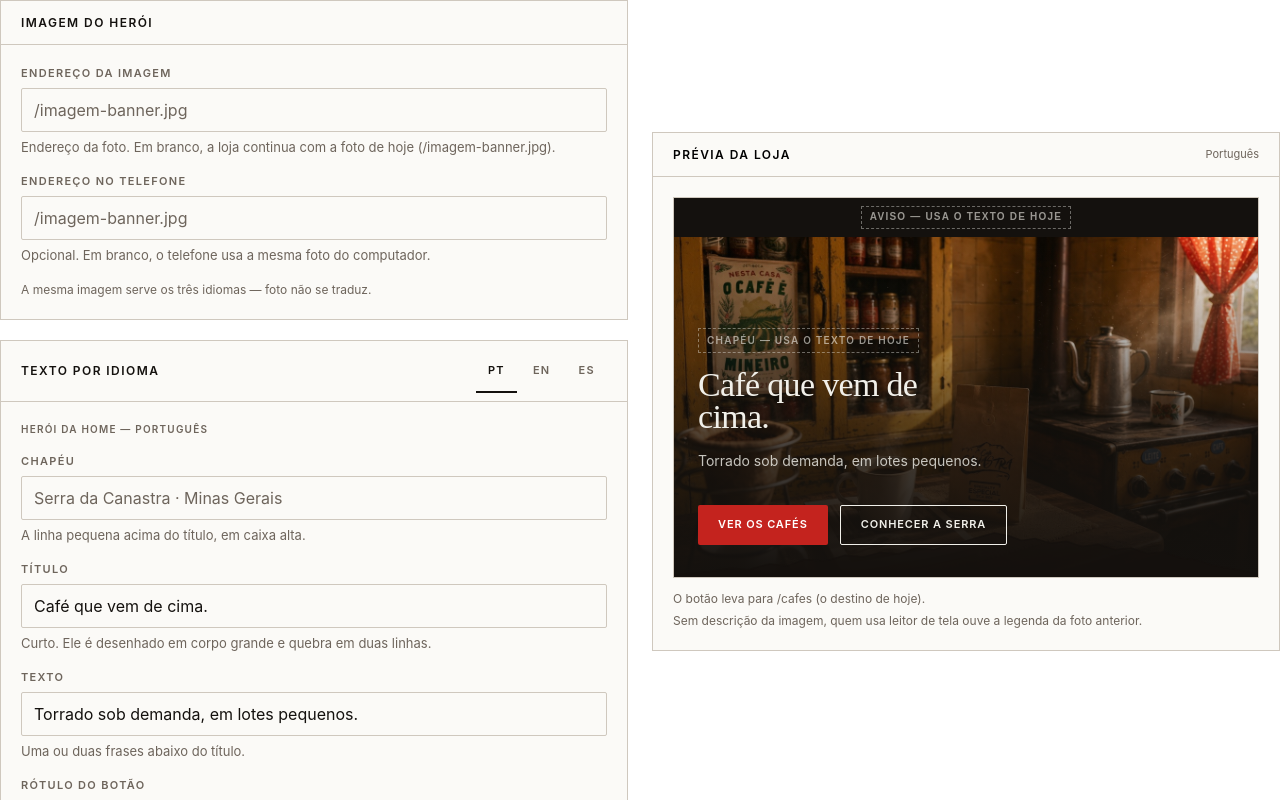
Scenario: a barra de salvar — R5 › descartar pede confirmação antes de devolver o valor original
The image size is (1280, 800).
Type "Outra coisa" into the field labelled "Título" at (314, 606), box [21,584,607,628]
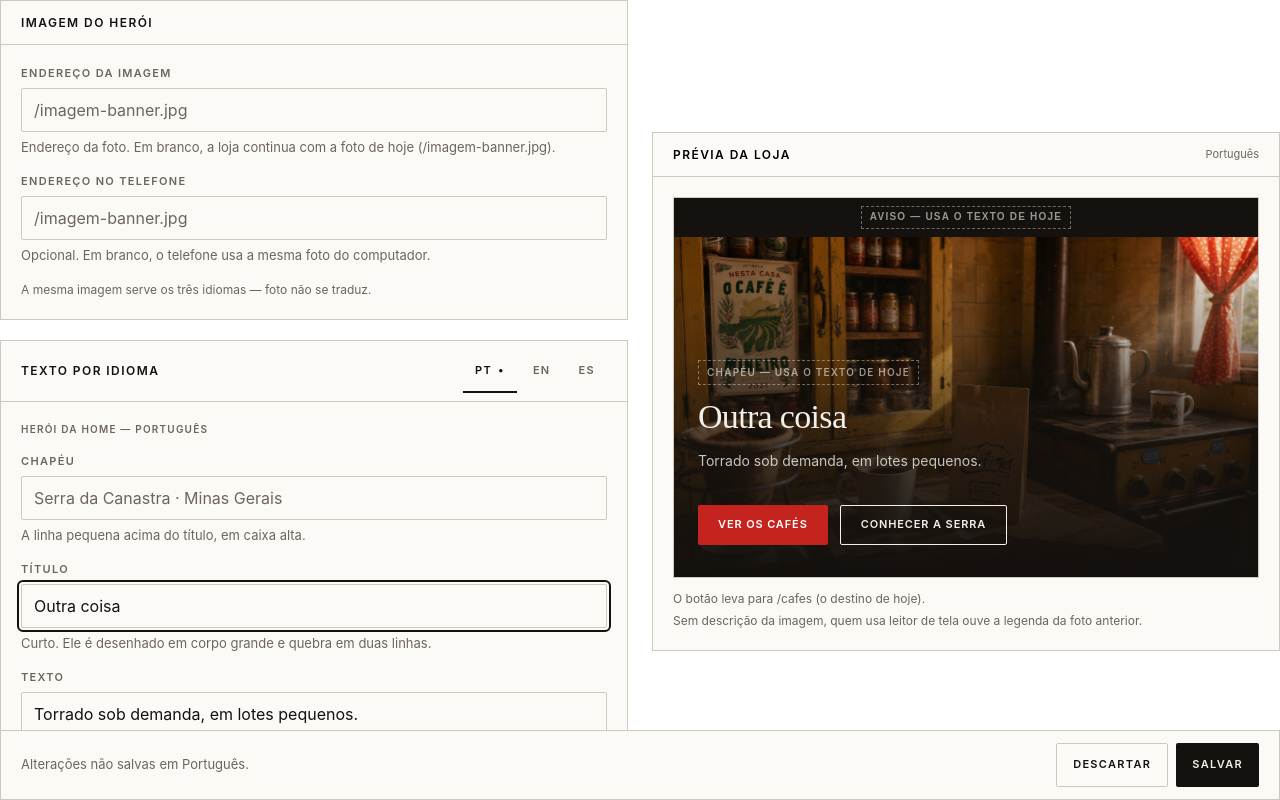
Click the button "Descartar" at (1112, 765), box [1056,743,1168,787]
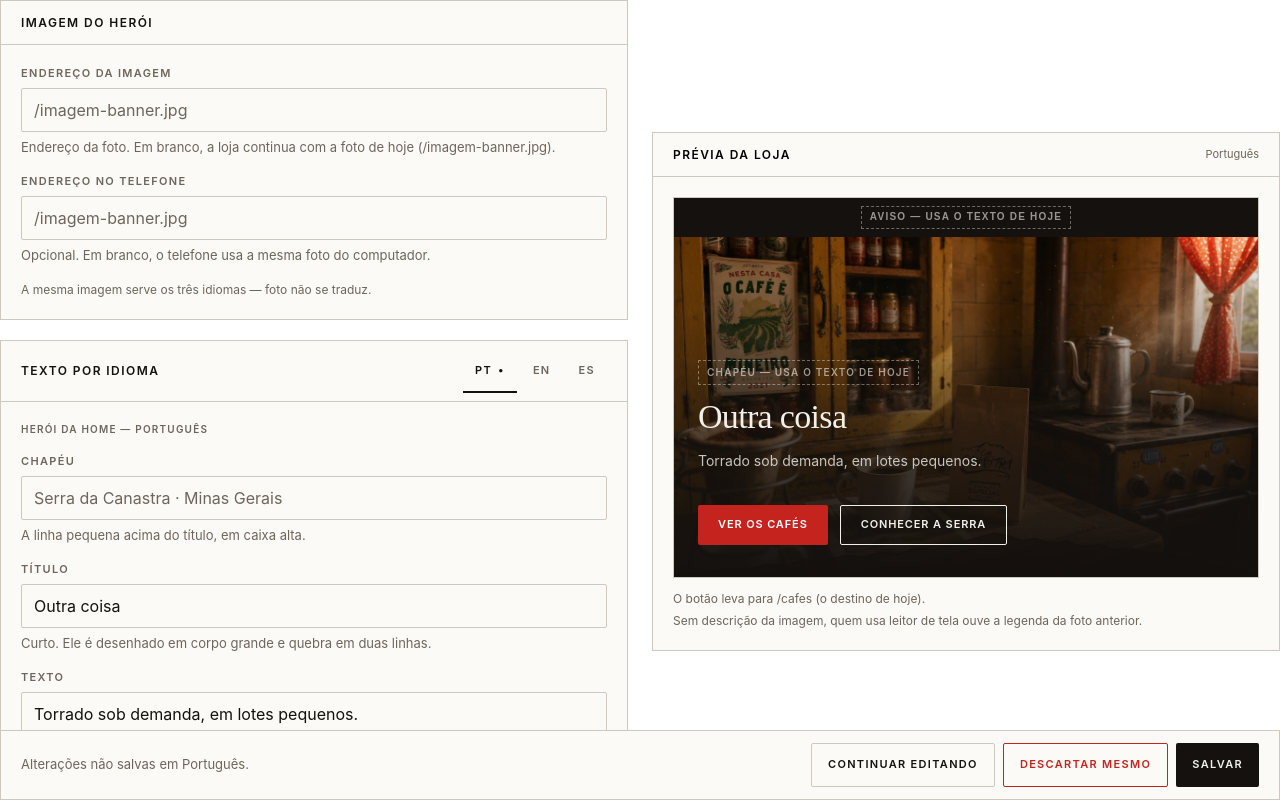
Result: the heading "Outra coisa" is shown at [698,398,846,436]
Click the button "Descartar mesmo" at (1086, 765), box [1003,743,1168,787]
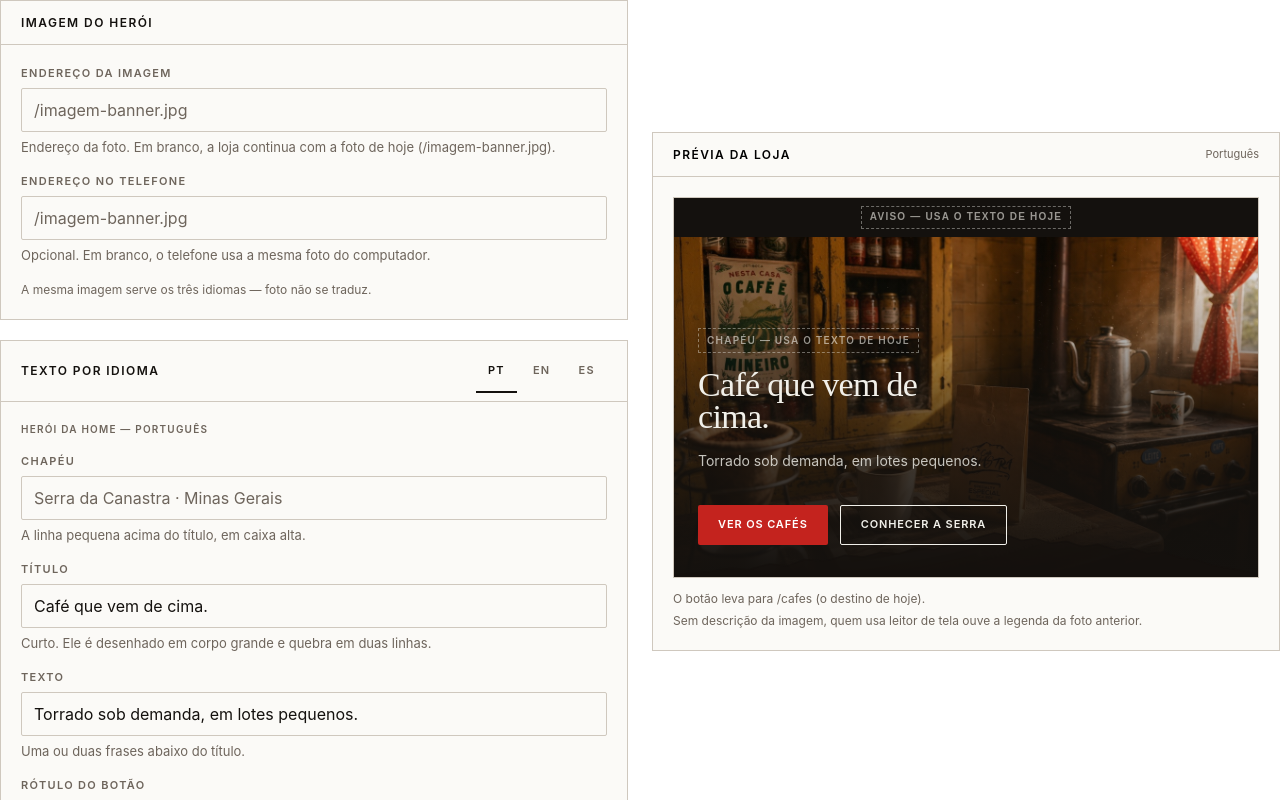
Result: the heading "Café que vem de cima." is shown at [698,369,936,434]
Result: the button "Salvar" is gone
